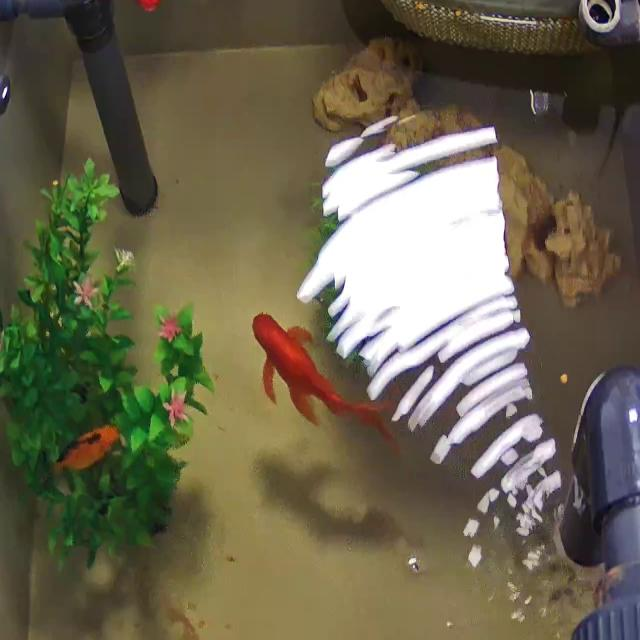fish: (250, 308, 399, 457), (51, 424, 122, 474)
